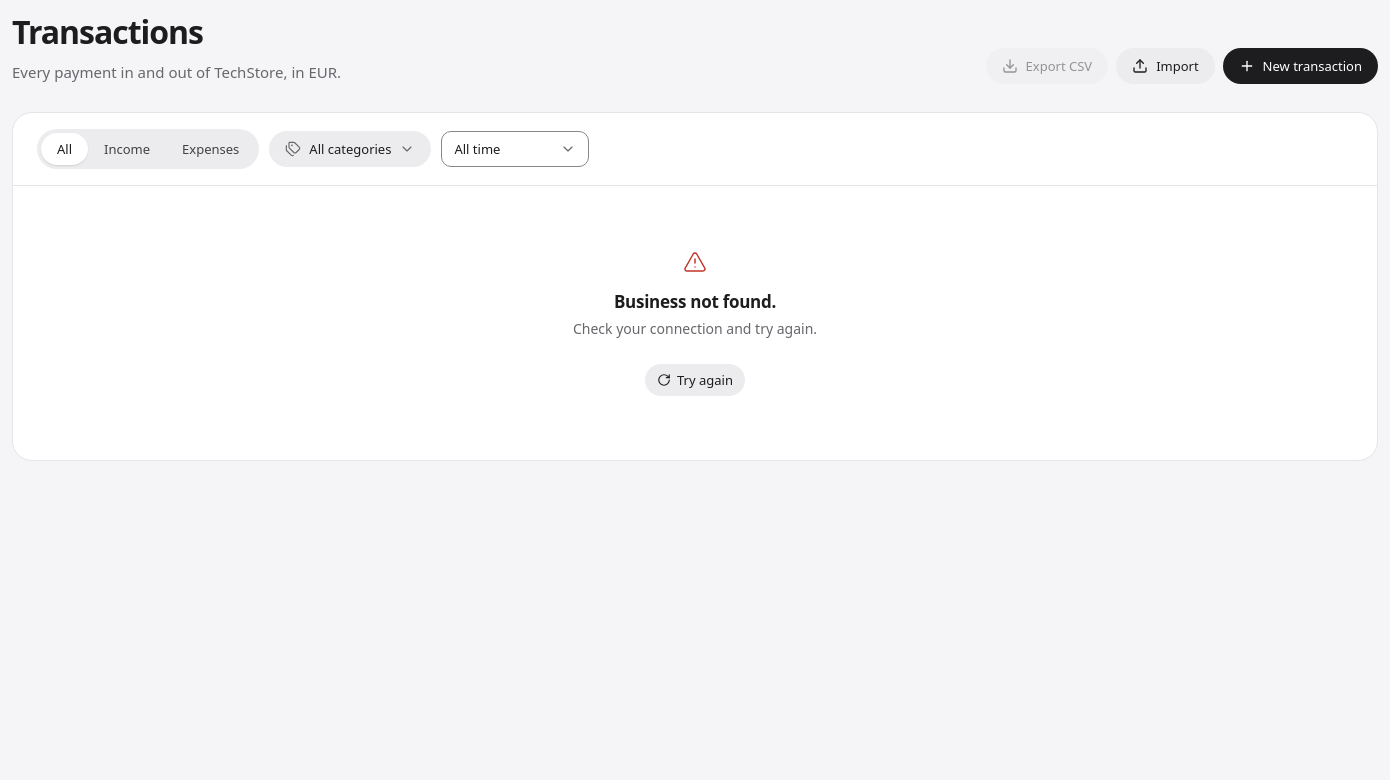
Test case: transaction history › shows an error with a way to try again
Expected: the text "Business not found." is shown, [614,290,776,314]
Click the button "Try again" at (695,380), box [645,364,745,396]
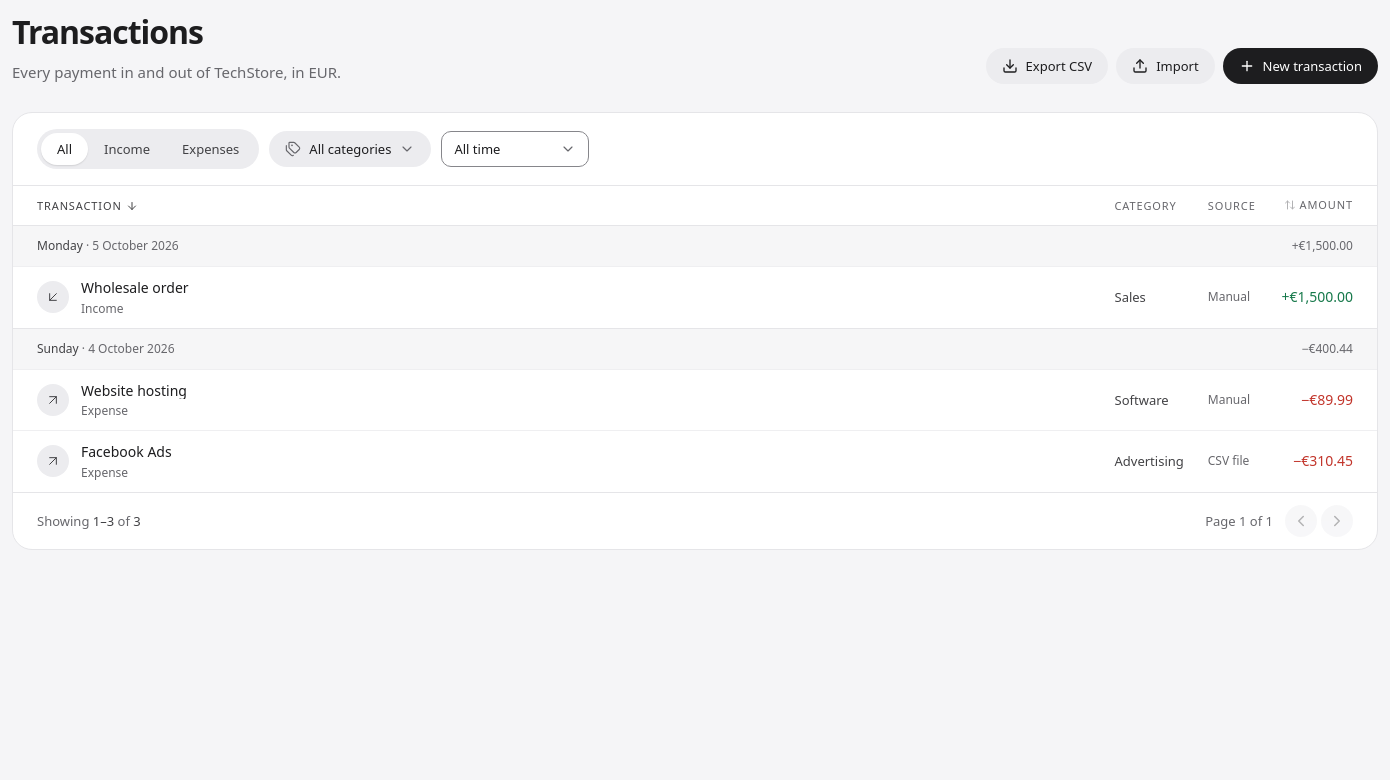
Expected: the table is shown, [13,185,1377,492]
